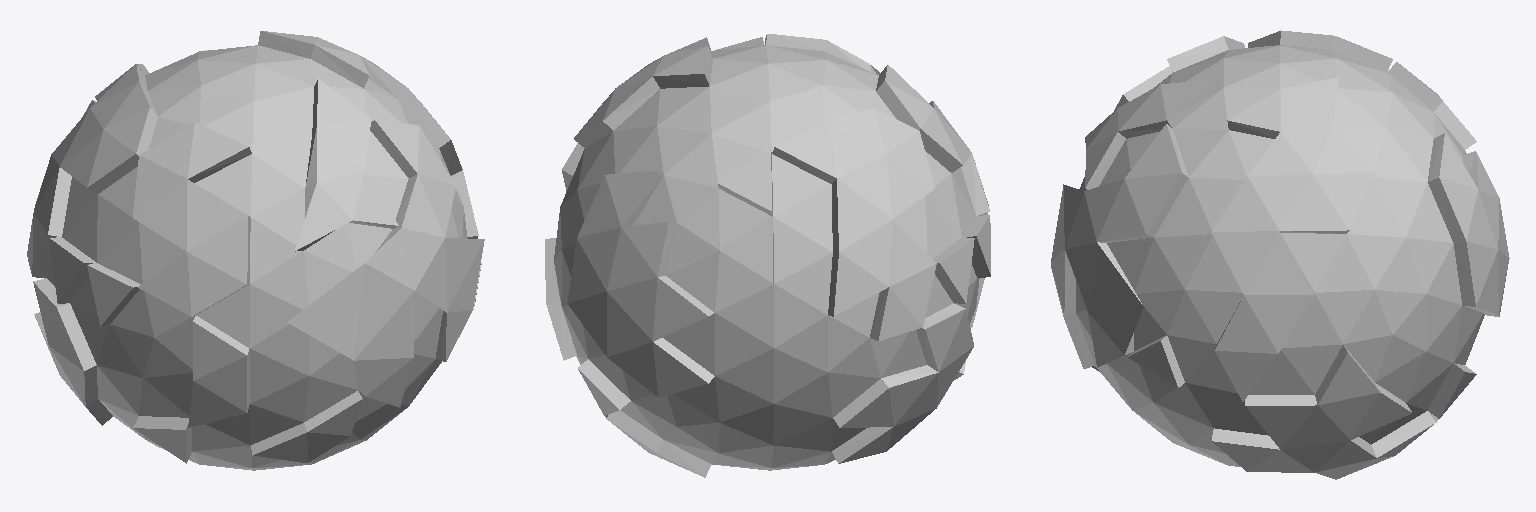
File: map.obj
The picture shows the model from 3 angles: view 1: azimuth 30°, elevation 25°; view 2: azimuth 150°, elevation 25°; view 3: azimuth 270°, elevation 25°; orthographic projection.
Parts seen in each view (by area): view 1: 地图; view 2: 地图; view 3: 地图.
Boxes of the visible parts, x1=… form: 地图: x1=27, y1=31, x2=484, y2=470; 地图: x1=545, y1=34, x2=990, y2=477; 地图: x1=1051, y1=30, x2=1509, y2=479.
Bounding box in the file's own units: 237 × 224 × 238.